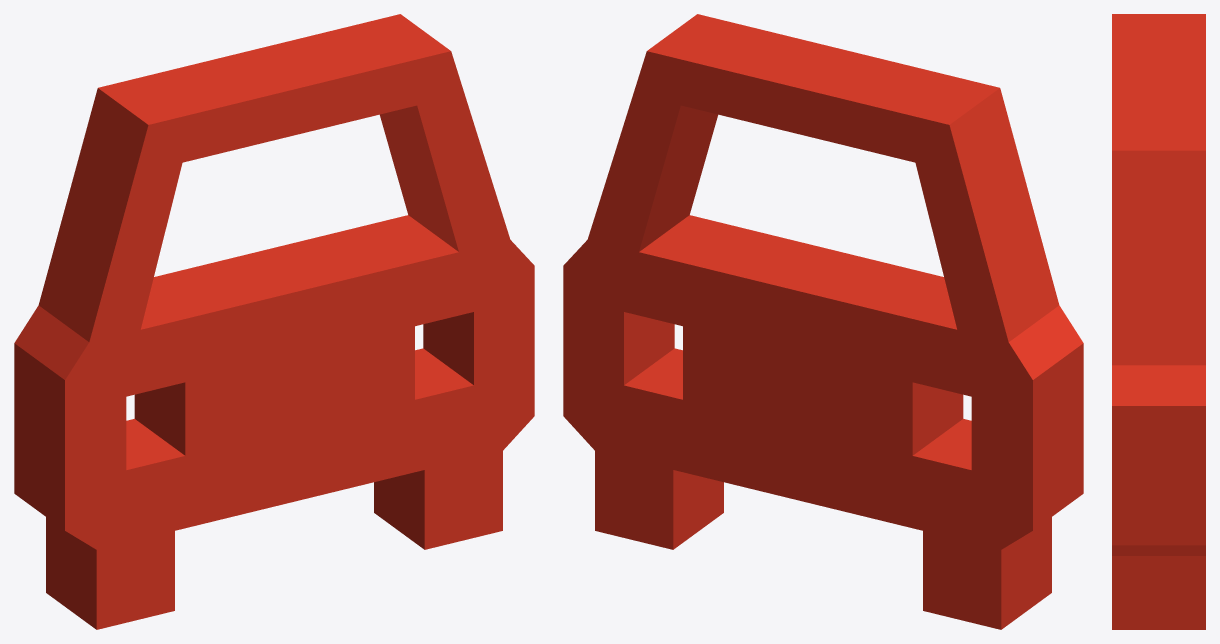
File: Icon_Car_02.fbx
The picture shows the model from 3 angles, left to right: view 1: azimuth 30°, elevation 25°; view 2: azimuth 150°, elevation 25°; view 3: azimuth 270°, elevation 25°; orthographic projection. The views are drawn at different scales.
Visible parts, largest first — view 1: Icon_Car_02; view 2: Icon_Car_02; view 3: Icon_Car_02.
Boxes of the visible parts, <box> form: Icon_Car_02: <box>14,14,534,629</box>; Icon_Car_02: <box>563,14,1083,629</box>; Icon_Car_02: <box>1112,14,1205,629</box>.
Size of the model in its own units: 64.5 by 64.63 by 12.06.
